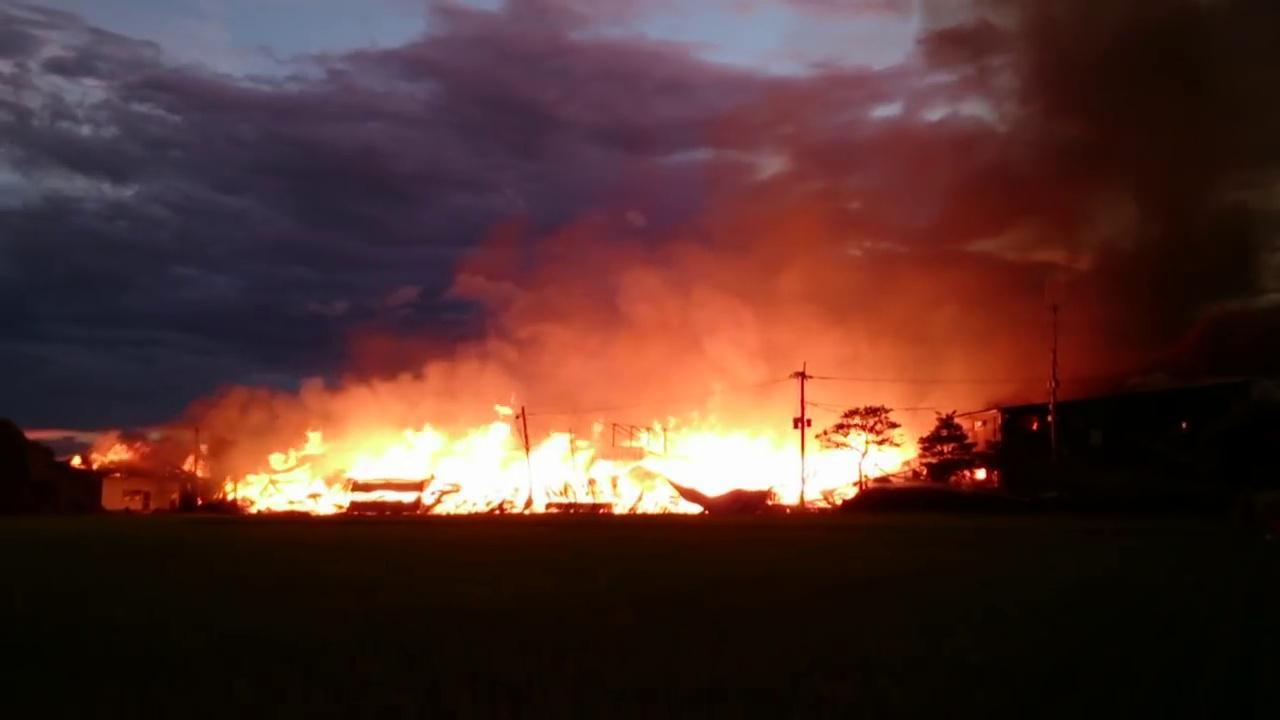Fire: (217, 398, 925, 519), (68, 432, 143, 474), (177, 440, 213, 477), (974, 465, 987, 482)
